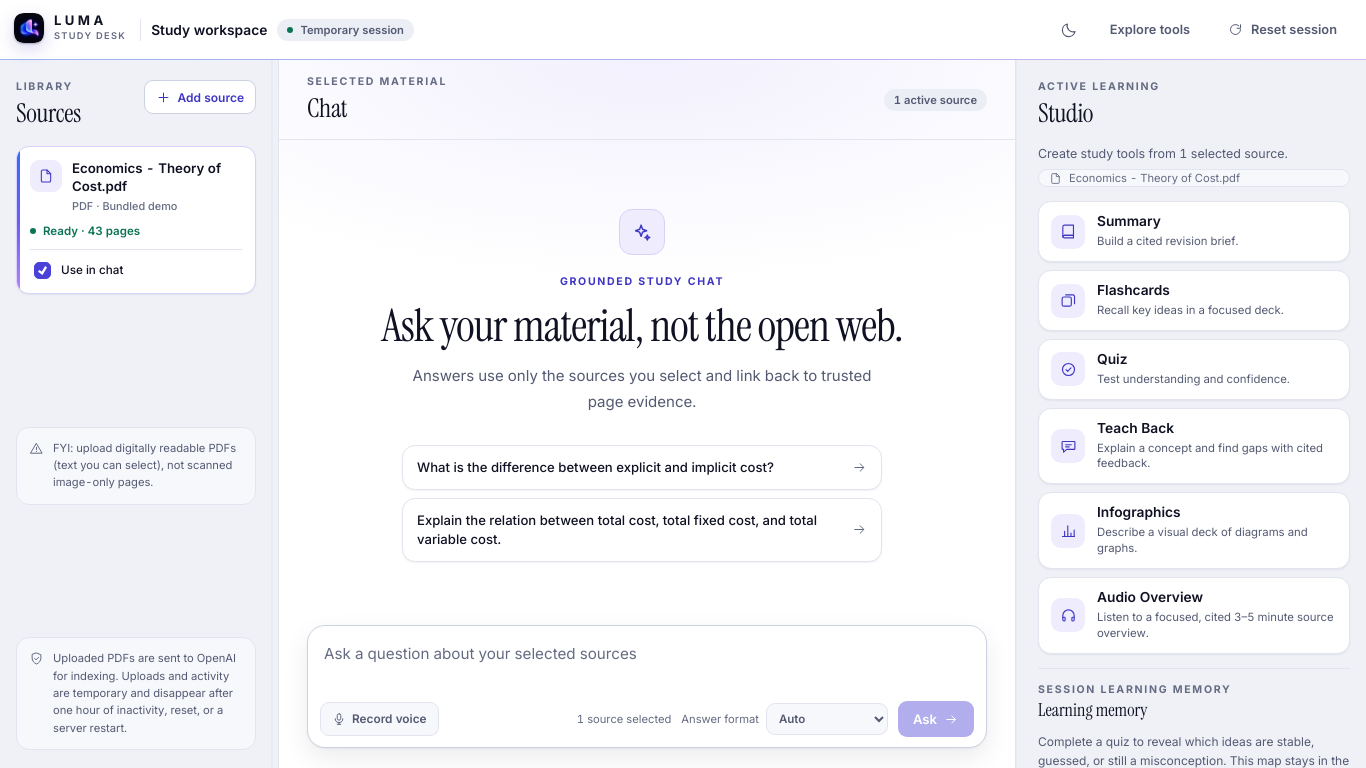
Scenario: WorkspacePage › renders a cited table answer and sends the selected format
Expected: the heading "Chat" is shown, [307, 91, 347, 125]
Type "Compare explicit and implicit cost." into the text box named "Ask your selected sources". click: (647, 667)
box: [320, 638, 974, 697]
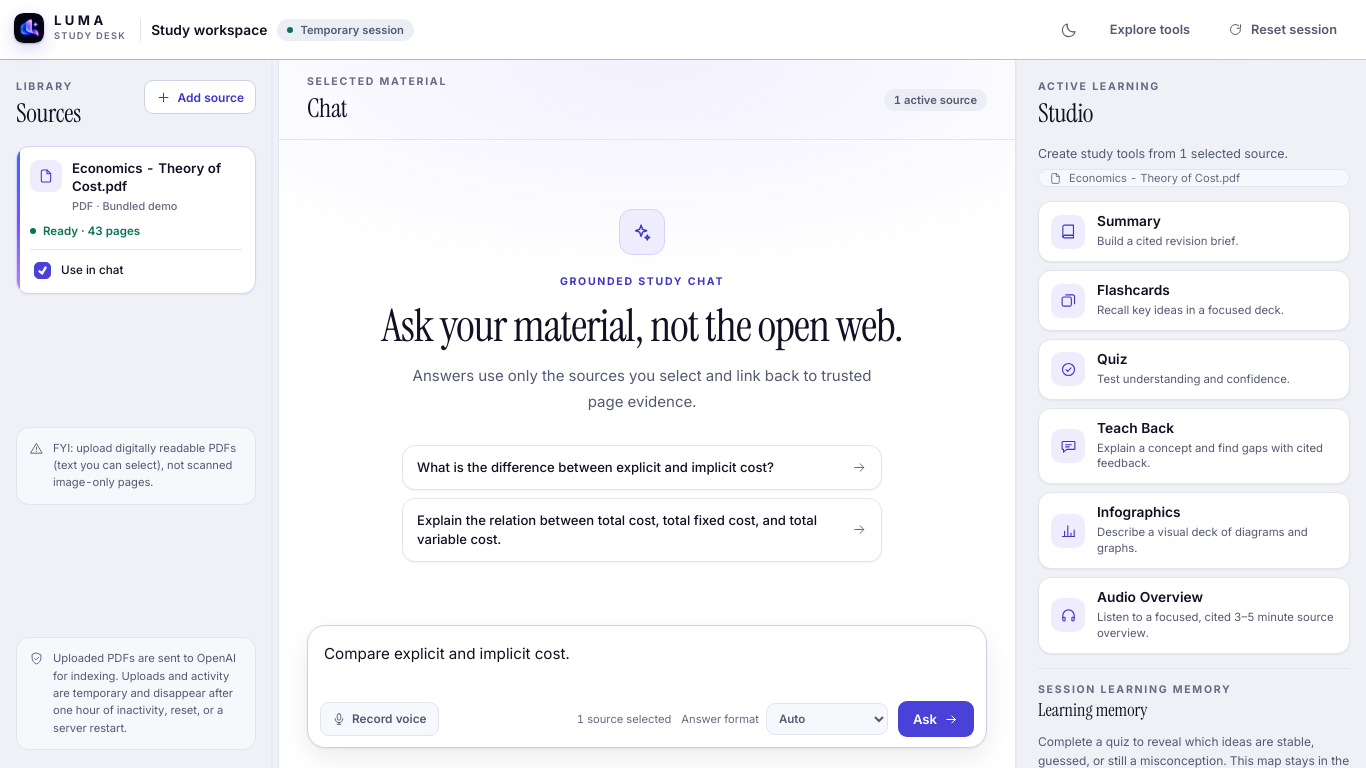
Select "Table" in the dropdown labelled "Answer format". click: (827, 719)
box: [766, 703, 888, 735]
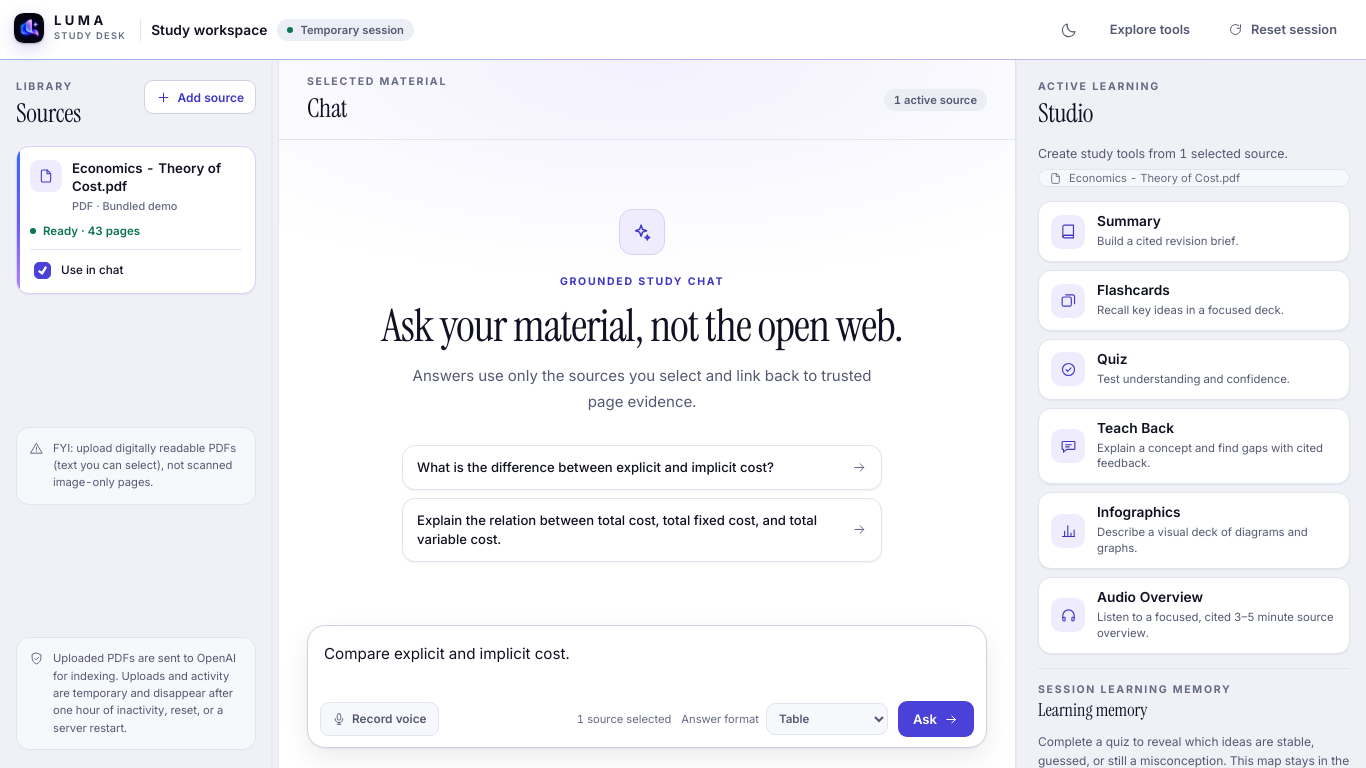
Click the button "Ask". click: (936, 719)
box: [898, 701, 974, 737]
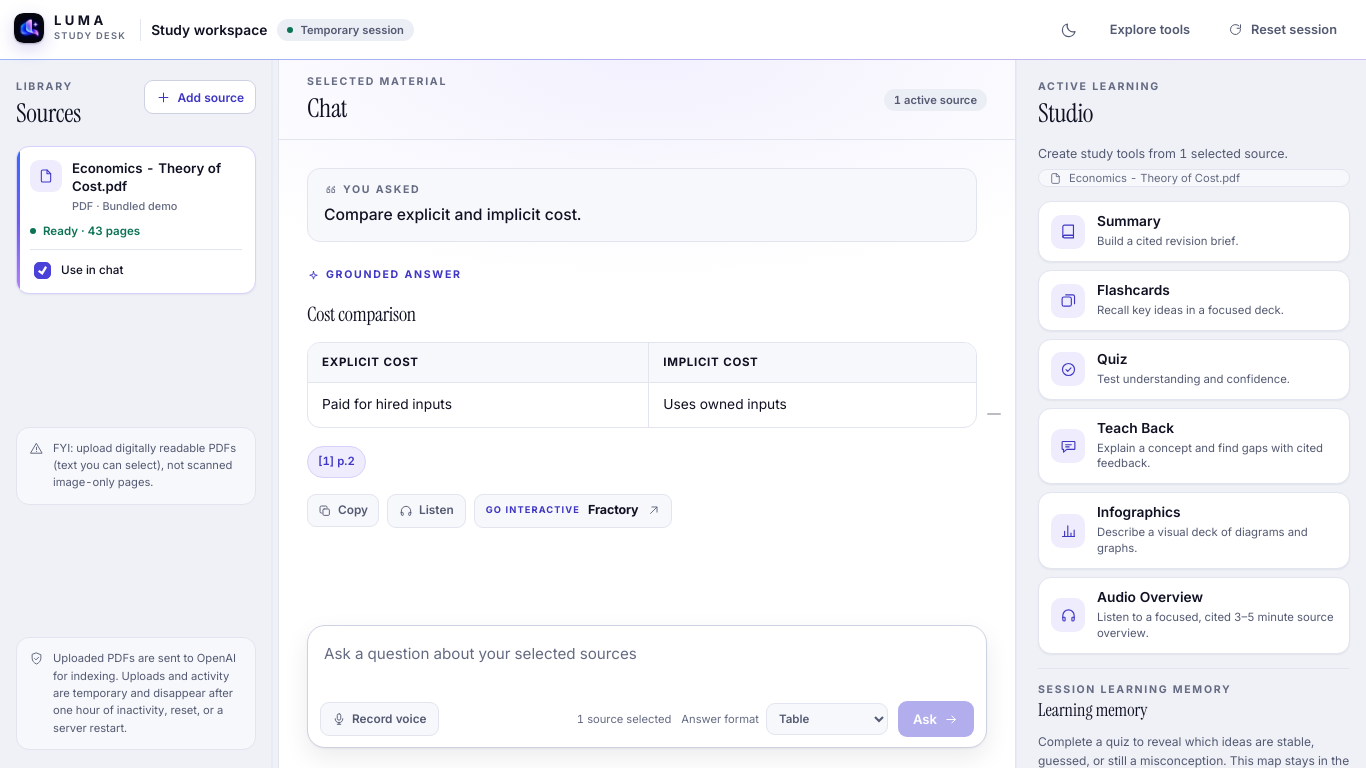
Expected: the table is shown, [308, 342, 976, 427]
Expected: the column heading "Explicit cost" is shown, [308, 342, 649, 383]
Expected: the text "Uses owned inputs" is shown, [649, 383, 976, 427]
